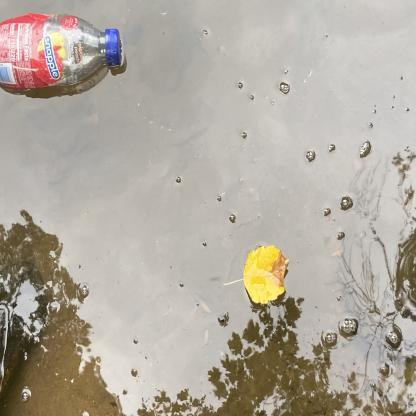trash: (0, 0, 128, 98)
